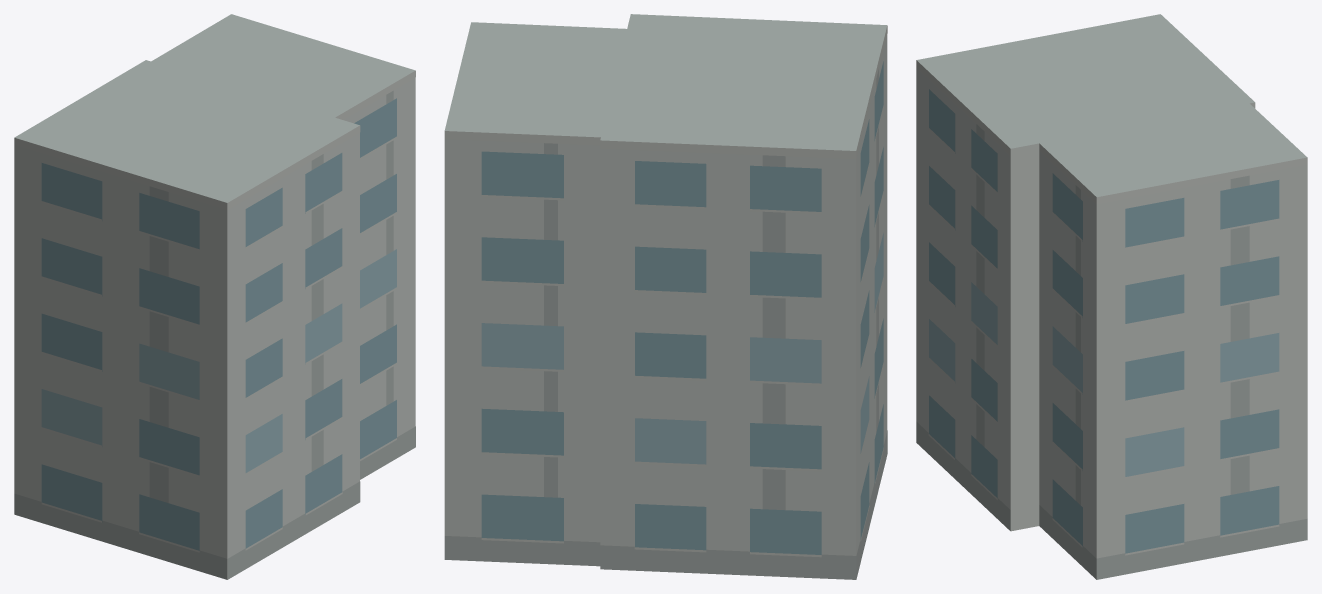
The model's file is survey-upis-33000430.glb.
3 views of the same model, side by side, from view 1: azimuth 30°, elevation 25°; view 2: azimuth 150°, elevation 25°; view 3: azimuth 270°, elevation 25° (orthographic). The views are drawn at different scales.
Parts seen in each view (by area): view 1: survey-upis-33000430.tmp; view 2: survey-upis-33000430.tmp; view 3: survey-upis-33000430.tmp.
Part boxes in pixels (box(x1,y1,x2,y2)): survey-upis-33000430.tmp: box(14, 14, 415, 579); survey-upis-33000430.tmp: box(444, 14, 887, 579); survey-upis-33000430.tmp: box(916, 14, 1307, 579).
Size of the model in its own units: 13.31 by 12.95 by 12.01.
